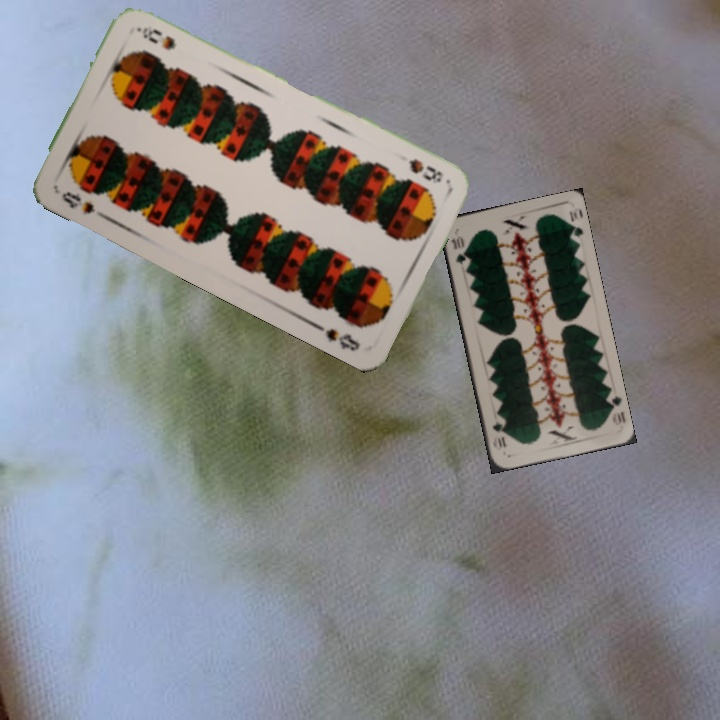G10: (602, 390, 628, 428), (447, 231, 468, 268)
S8: (404, 155, 447, 187), (57, 187, 97, 218)
